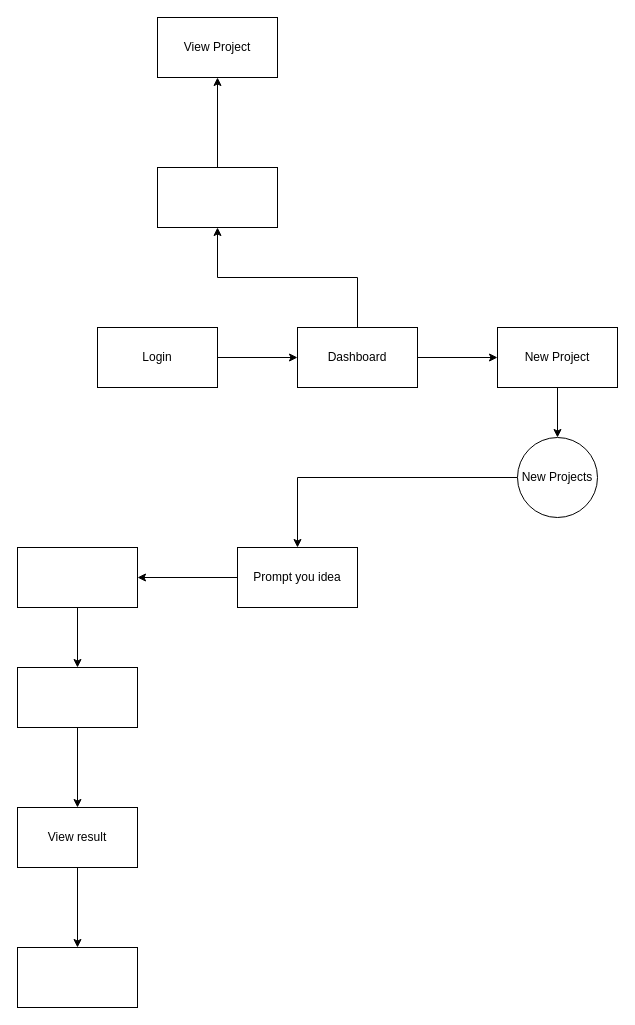
Some shapes in this 635 by 1025 pixel diagram are drawn without their labels. The centre of each missing label's shape, as x and y in pixels:
Download files: (x=77, y=977)
Generate resrouces: (x=77, y=697)
Projects: (x=217, y=197)
Select entepreneurship competition: (x=77, y=577)
